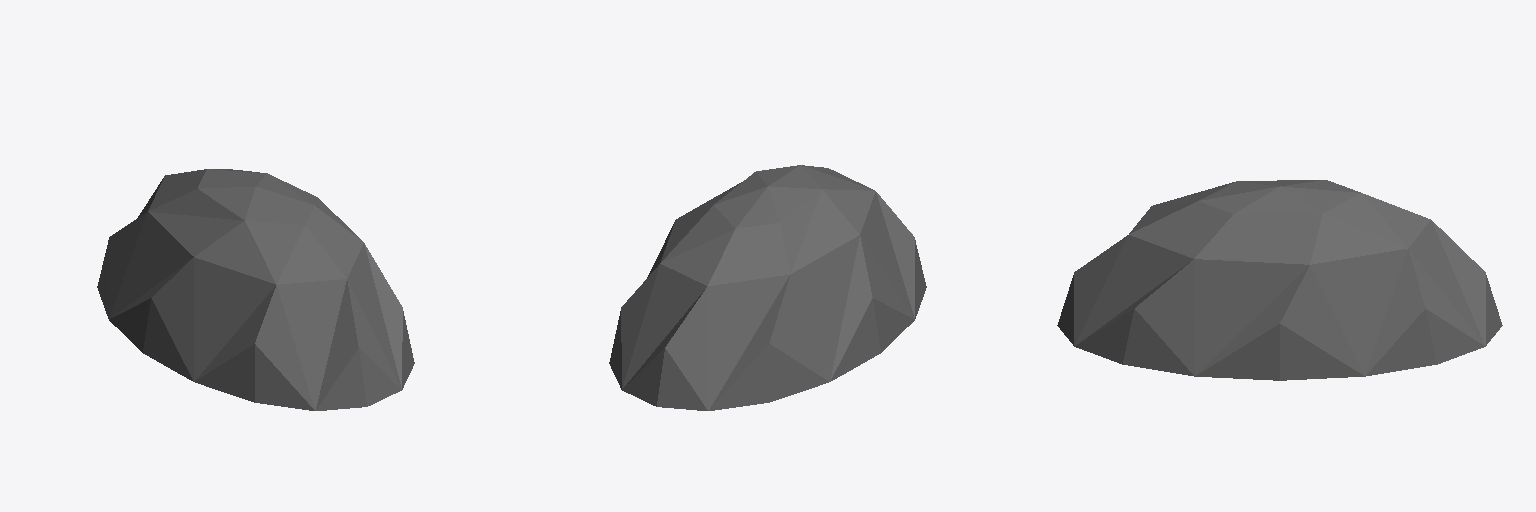
Rendered from steine2.obj.
The picture shows the model from 3 angles: view 1: azimuth 30°, elevation 25°; view 2: azimuth 150°, elevation 25°; view 3: azimuth 270°, elevation 25°; orthographic projection.
Visible parts, largest first — view 1: Kugel; view 2: Kugel; view 3: Kugel.
Boxes of the visible parts, <box> form: Kugel: <box>97,169,414,410</box>; Kugel: <box>609,165,926,410</box>; Kugel: <box>1057,180,1502,380</box>.
Size of the model in its own units: 72.59 by 42.6 by 124.